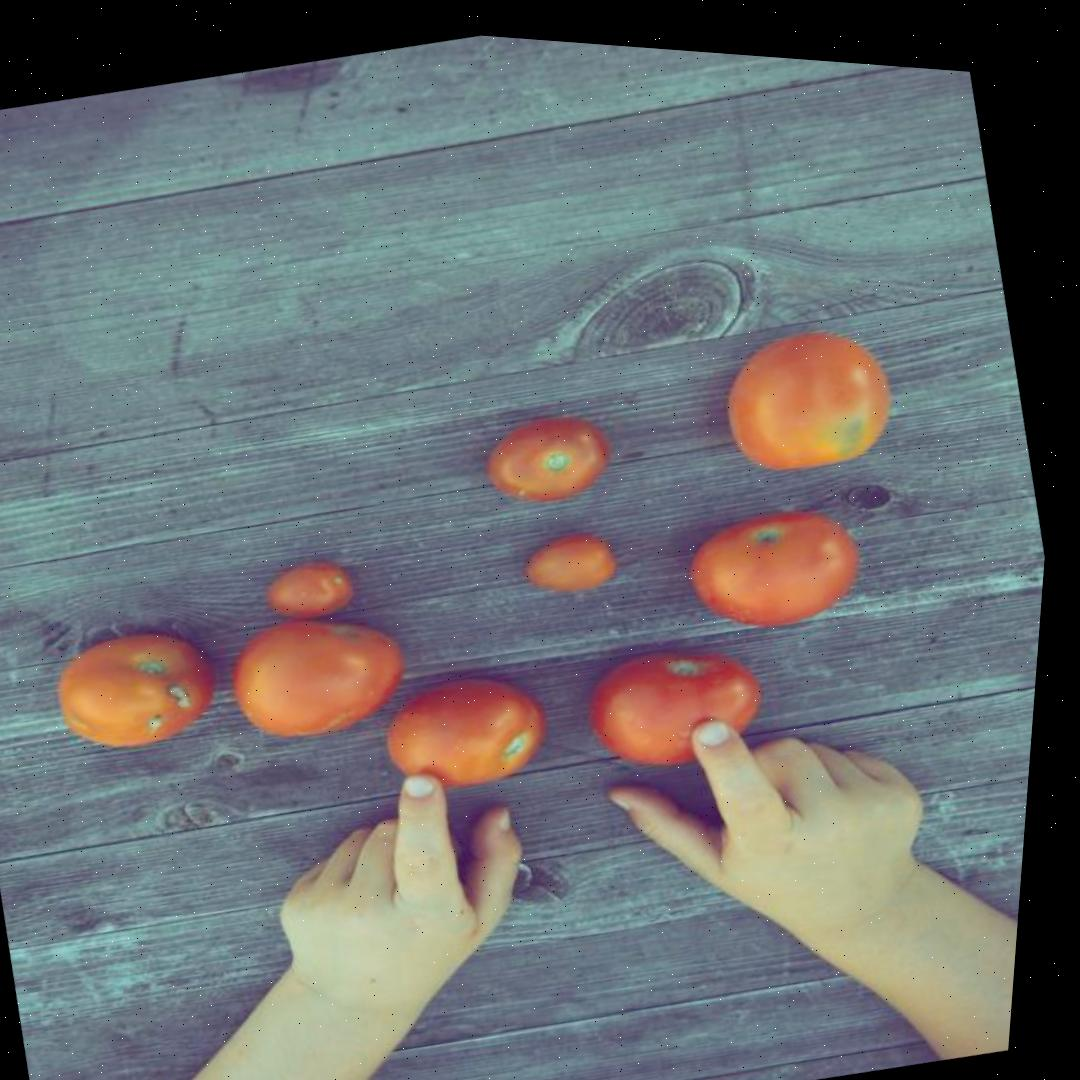matang: (704, 307, 908, 491), (213, 587, 422, 756), (572, 625, 778, 787), (679, 488, 874, 647), (367, 652, 562, 810), (475, 399, 618, 514), (516, 521, 622, 603), (255, 552, 358, 631)
